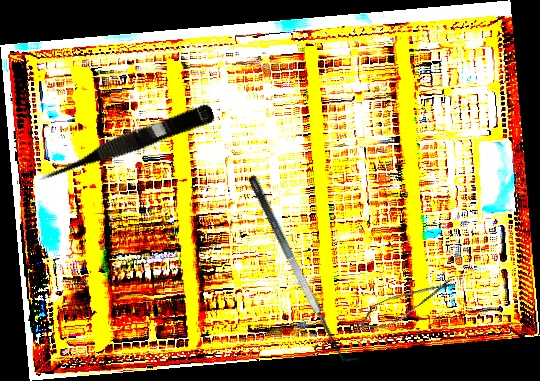Micro Scissor: (34, 99, 216, 188), (351, 268, 461, 339)
Spatula Surgical: (246, 167, 361, 370)
